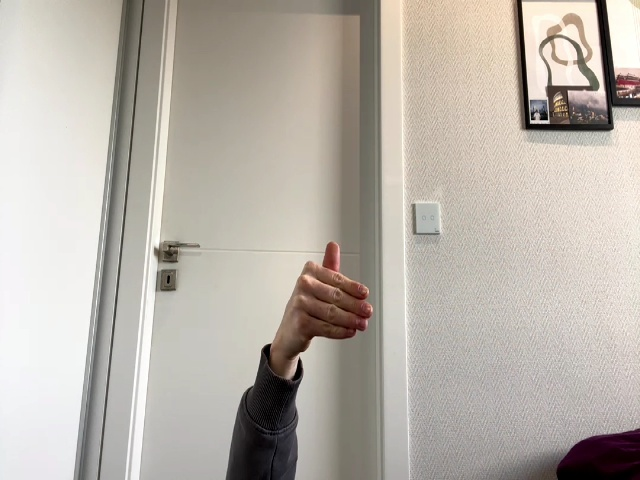M: (286, 241, 373, 355)
